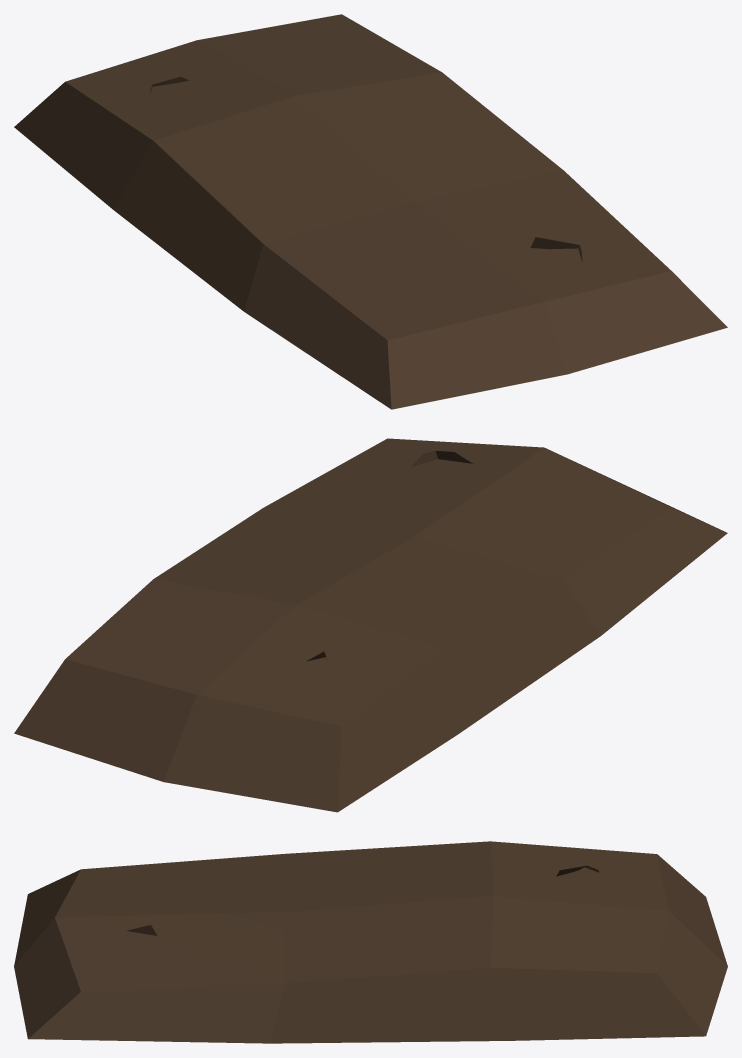
The model's file is fantasy_grave-dirt.fbx.
3 renders of one model, top to bottom at view 1: azimuth 30°, elevation 25°; view 2: azimuth 150°, elevation 25°; view 3: azimuth 270°, elevation 25°, orthographic. The views are drawn at different scales.
Parts seen in each view (by area): view 1: fantasy_grave_dirt; view 2: fantasy_grave_dirt; view 3: fantasy_grave_dirt.
Part boxes in pixels (box(x1,y1,x2,y2)): fantasy_grave_dirt: box(14, 14, 727, 409); fantasy_grave_dirt: box(14, 438, 727, 812); fantasy_grave_dirt: box(14, 841, 727, 1043).
Bounding box in the file's own units: 102 × 21.83 × 200.
